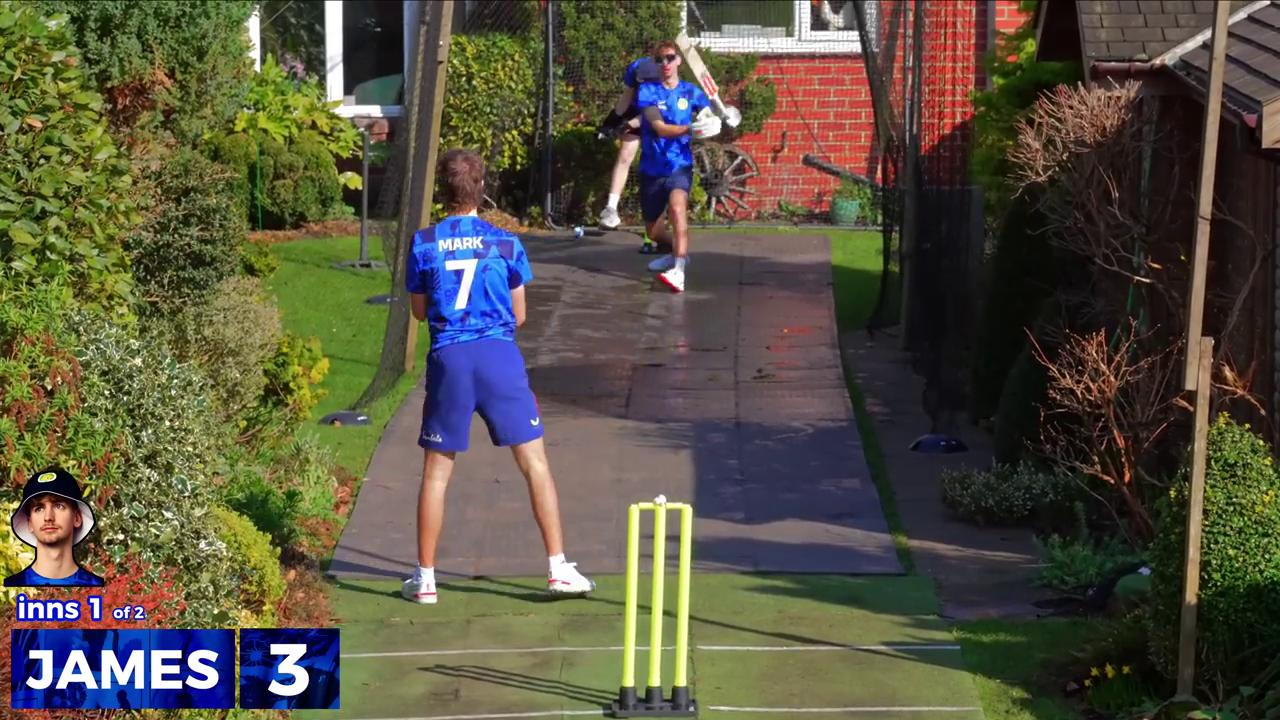ball: (570, 225, 588, 239)
